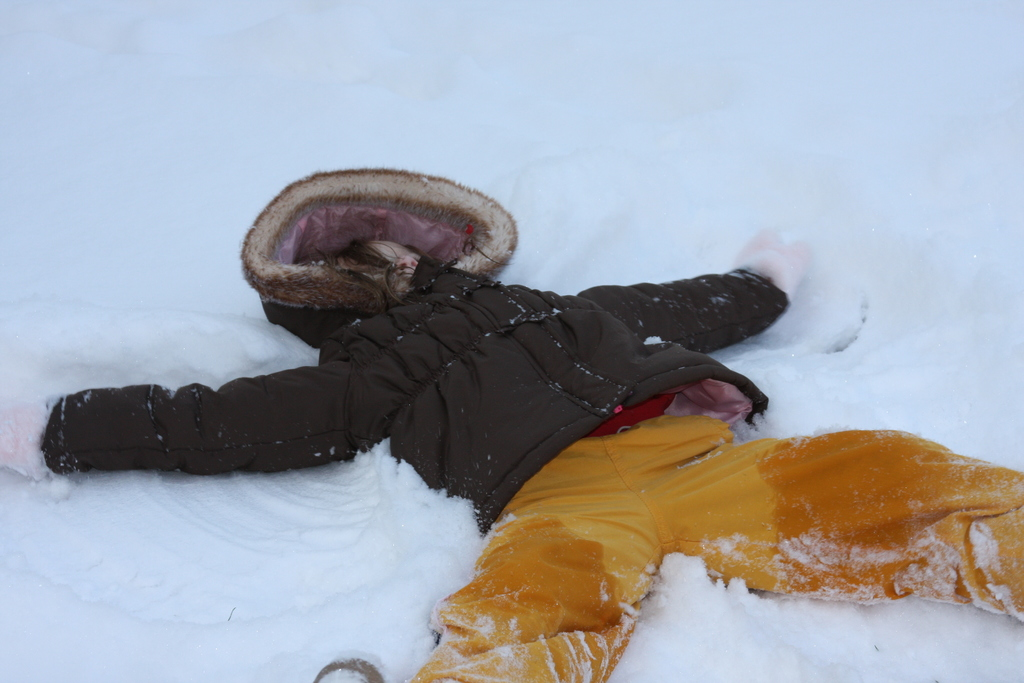Person: (0, 165, 1023, 683)
